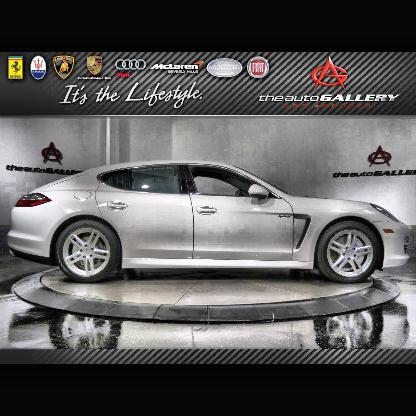Porsche Panamera Sedan 2012: (6, 160, 413, 285)
